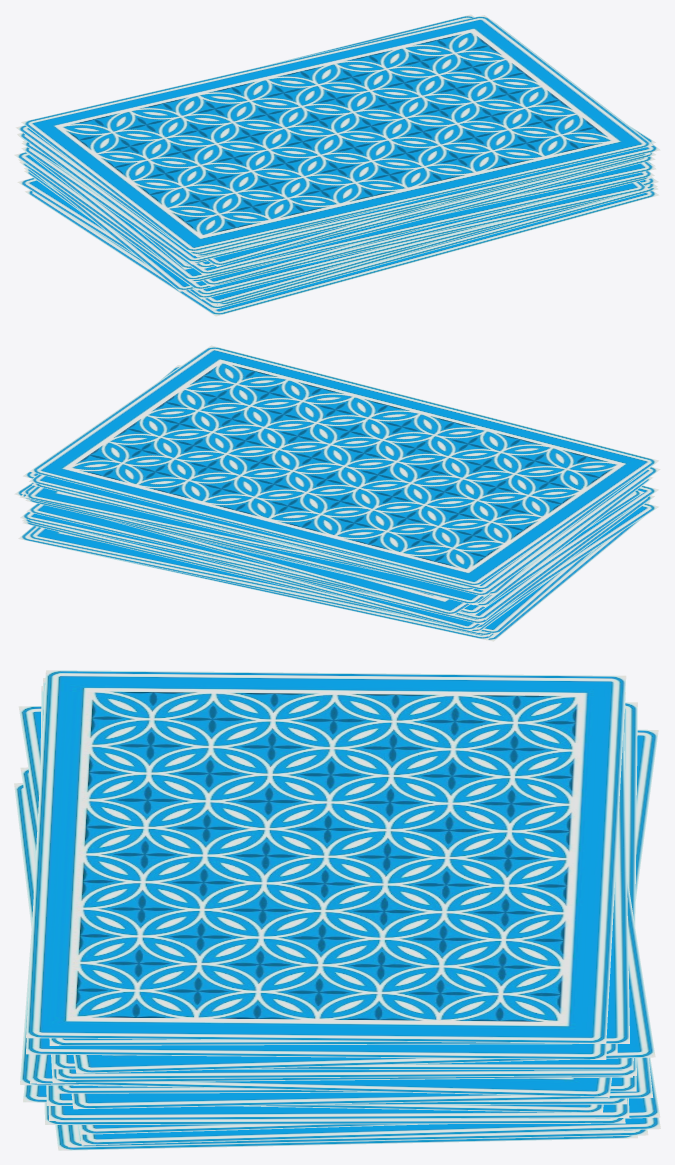
The picture shows the model from 3 angles, top to bottom: view 1: azimuth 30°, elevation 25°; view 2: azimuth 150°, elevation 25°; view 3: azimuth 270°, elevation 25°; orthographic projection. The views are drawn at different scales.
Visible parts, largest first — view 1: Cards; view 2: Cards; view 3: Cards.
Part boxes in pixels (x1,y1,x2,y2): Cards: (14,14,660,316); Cards: (14,345,660,641); Cards: (14,670,660,1150).
Size of the model in its own units: 1.59 by 0.19 by 1.11.
1 material, 1 textured.
